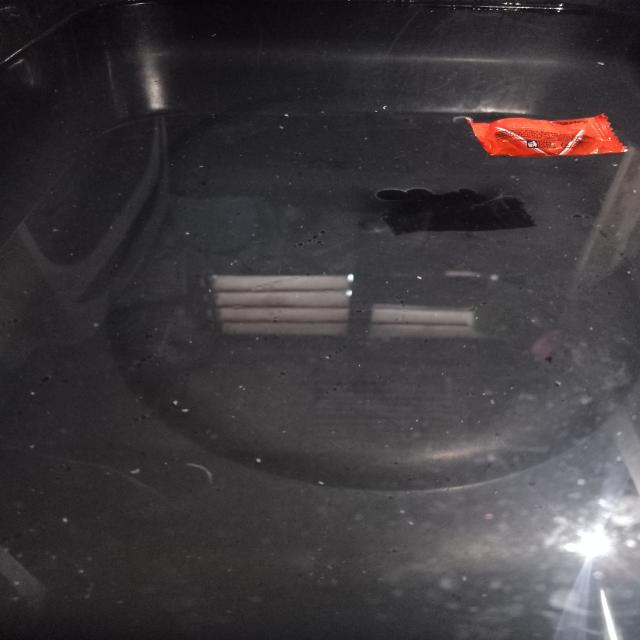Plastic Wrapper: (465, 114, 627, 157)
